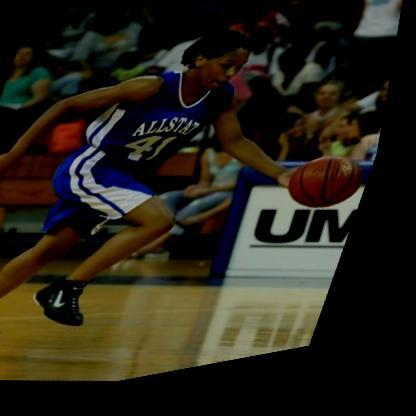basketball: (286, 158, 382, 237)
